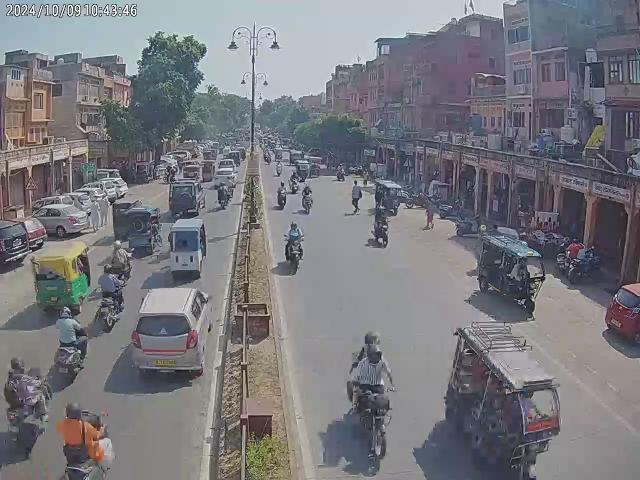auto: (443, 317, 562, 480), (478, 232, 546, 313), (30, 241, 91, 316), (110, 196, 162, 260), (168, 219, 208, 279), (374, 180, 402, 215)
car: (130, 286, 210, 380), (30, 202, 90, 238), (168, 178, 204, 218), (90, 176, 128, 200)
helmet: (366, 343, 384, 365), (66, 402, 84, 418), (363, 330, 382, 344), (12, 356, 26, 369), (58, 308, 72, 318), (104, 264, 112, 273), (290, 222, 298, 230), (114, 241, 122, 248)
license_plate: (152, 358, 175, 366)
motorbike: (568, 256, 604, 286)
motorbike-rider: (345, 329, 394, 461), (93, 262, 126, 330), (284, 220, 306, 271), (371, 200, 391, 248), (300, 184, 314, 212), (216, 184, 230, 208)
person: (524, 390, 538, 426), (350, 180, 362, 214), (425, 202, 437, 230)
scooty: (456, 215, 486, 238)
scooty-rider: (2, 356, 52, 460), (56, 402, 116, 480), (54, 306, 92, 380), (110, 240, 132, 282), (278, 182, 288, 210), (336, 163, 346, 182)
